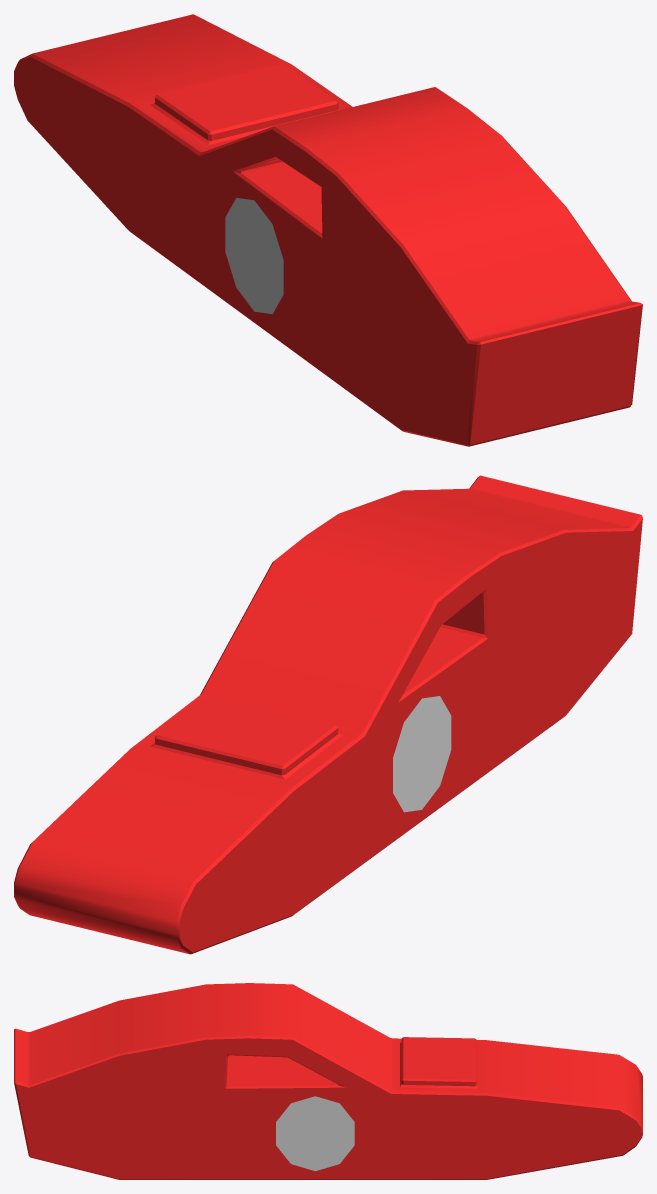
Rendered from car1.fbx.
3 views of the same model, one above another, from view 1: azimuth 30°, elevation 25°; view 2: azimuth 150°, elevation 25°; view 3: azimuth 270°, elevation 25° (orthographic). The views are drawn at different scales.
Visible parts, largest first — view 1: car1, number_plate.001; view 2: car1, number_plate.001; view 3: car1, number_plate.
Boxes of the visible parts, x1,y1,x2,y2 form: car1: [14, 14, 642, 446]; number_plate.001: [225, 198, 283, 314]; car1: [14, 475, 642, 954]; number_plate.001: [393, 696, 451, 812]; car1: [14, 983, 642, 1179]; number_plate: [276, 1096, 354, 1171].
Bounding box in the file's own units: 166 × 202 × 800.
